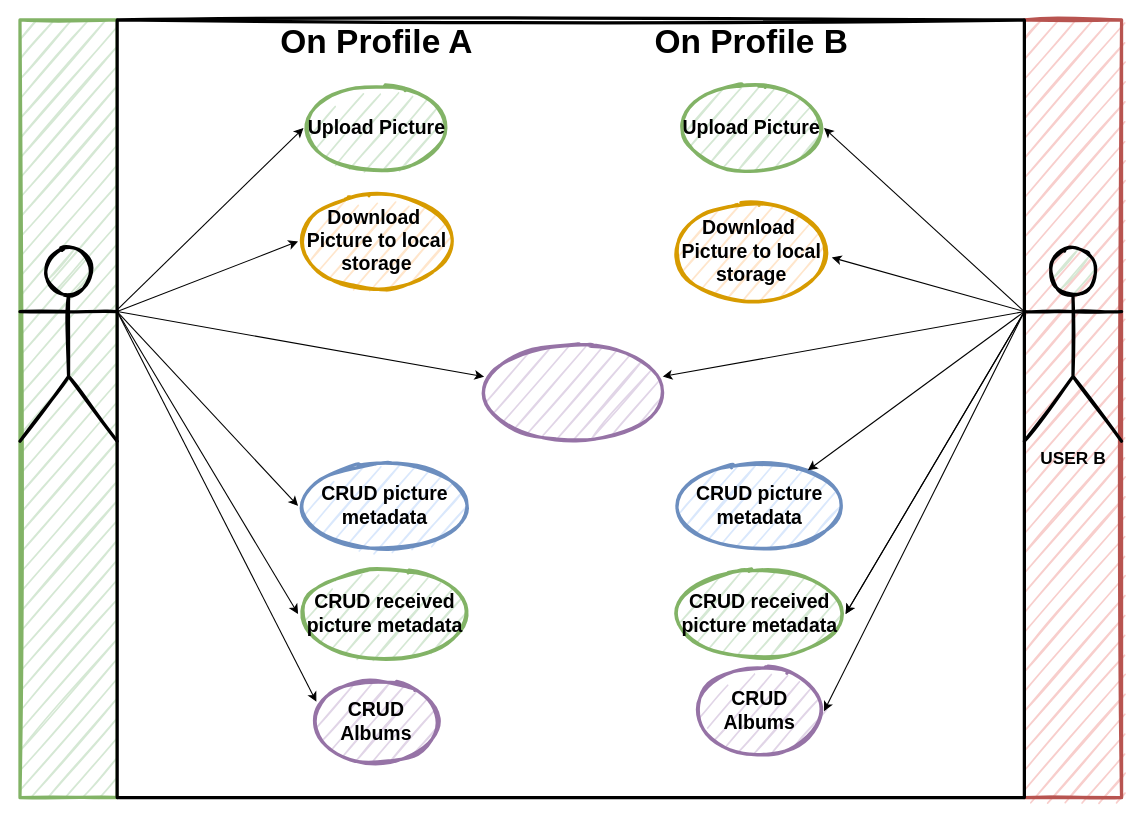
This 1142x818 diagram has some shape labels left out. Each missing label, with the centre of its shape:
"Share Picture with other user" belongs at point (573, 392).
"USER A" belongs at point (68, 343).
